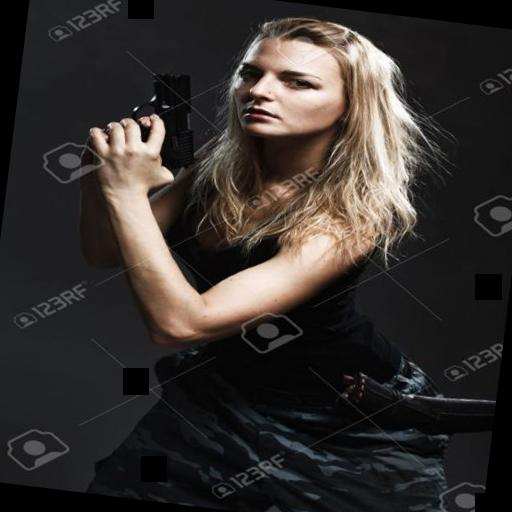Handgun: (95, 52, 215, 178)
